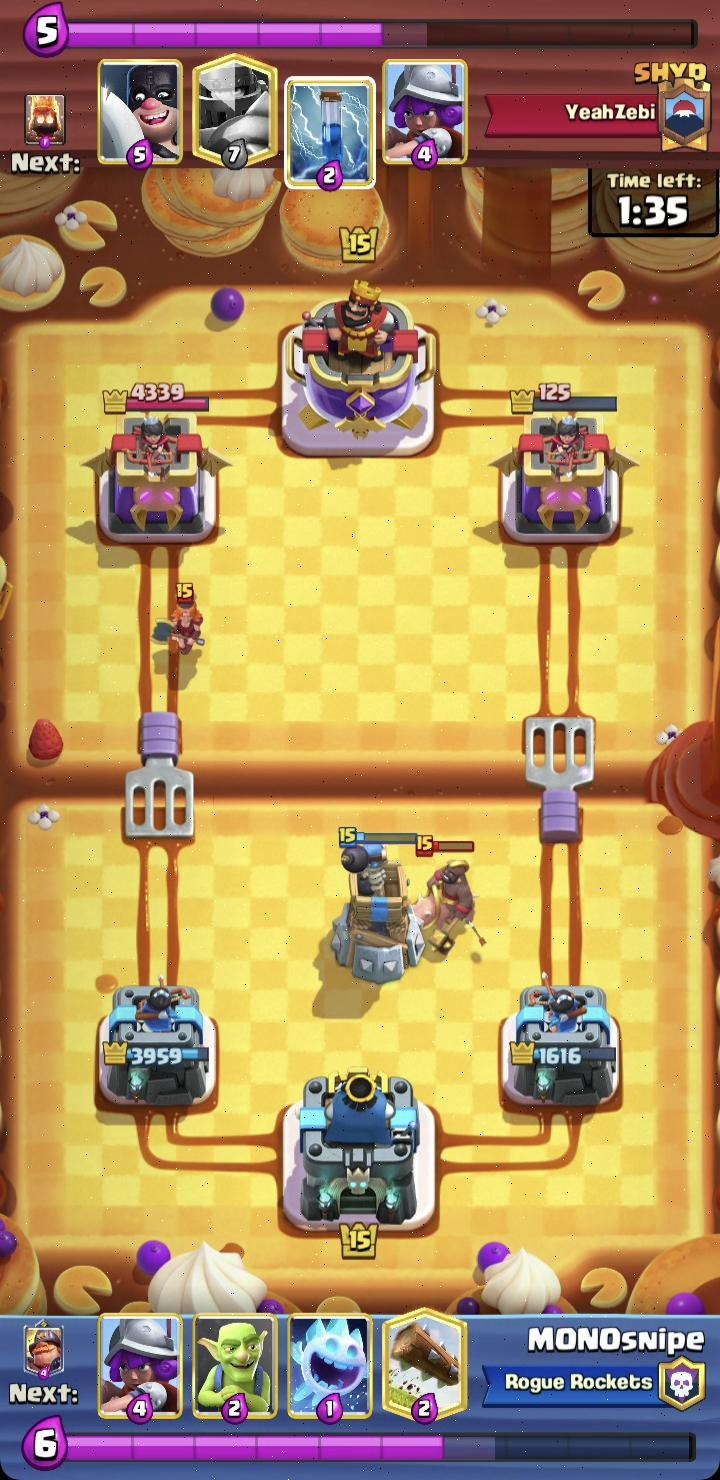EHogRider: (413, 841, 477, 954)
EKingTower: (281, 280, 436, 456)
EValk: (153, 582, 204, 655)
EnemyPrincessTower: (99, 389, 229, 544), (497, 389, 626, 545)
OBombertower: (332, 835, 422, 983)
OwnKingTower: (283, 1071, 420, 1229)
OwnPrincessTower: (501, 984, 618, 1106), (99, 986, 215, 1106)
